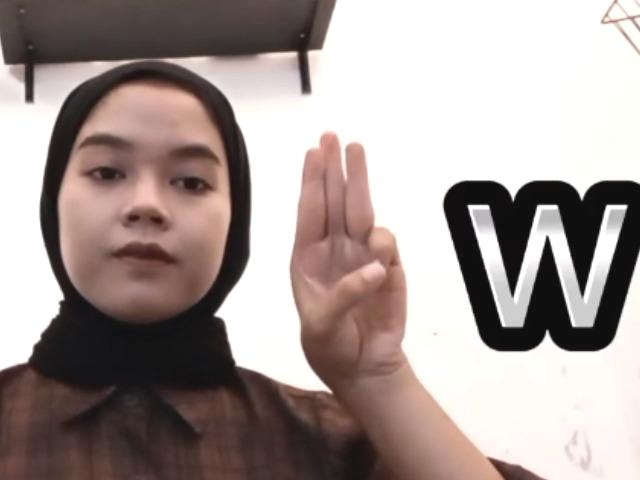W: (286, 128, 412, 376)
